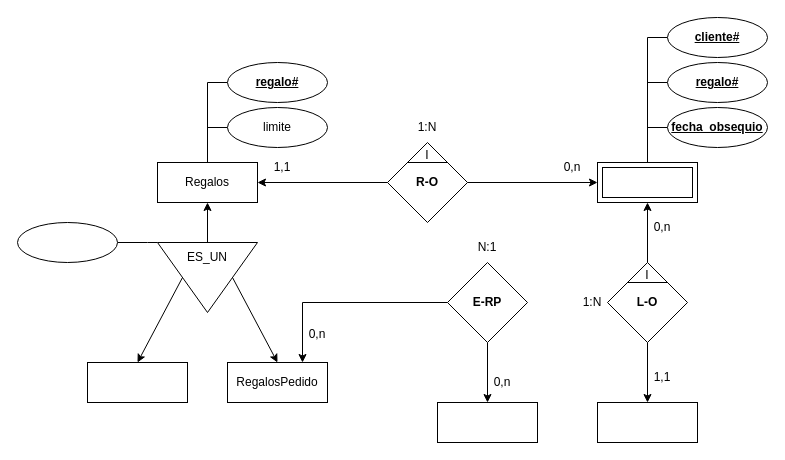
Some shapes in this 785 by 460 pixel diagram are drawn without their labels. The shapes that lost their labels are listed below. From the top down, each one's box as (x1, y1, x2, y2) in pixels, then its label:
(596, 162, 698, 202): Obsequios
(16, 222, 118, 262): motivo
(86, 362, 188, 402): RegalosConsumo
(436, 402, 538, 442): Pedidos
(596, 402, 698, 442): Clientes
